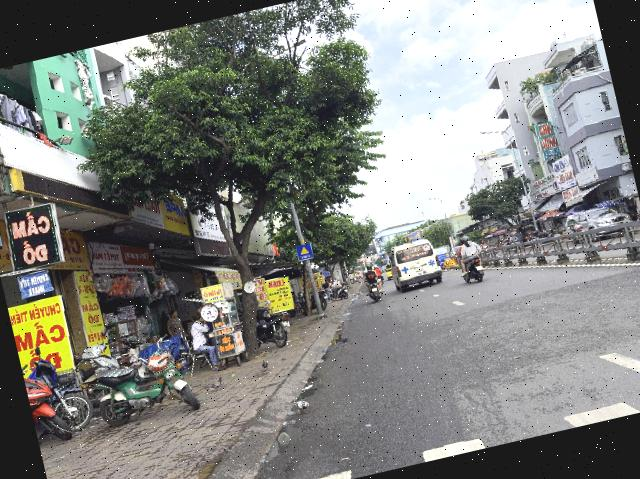khu-vuc-cho-phia-truoc: (296, 243, 314, 260)
